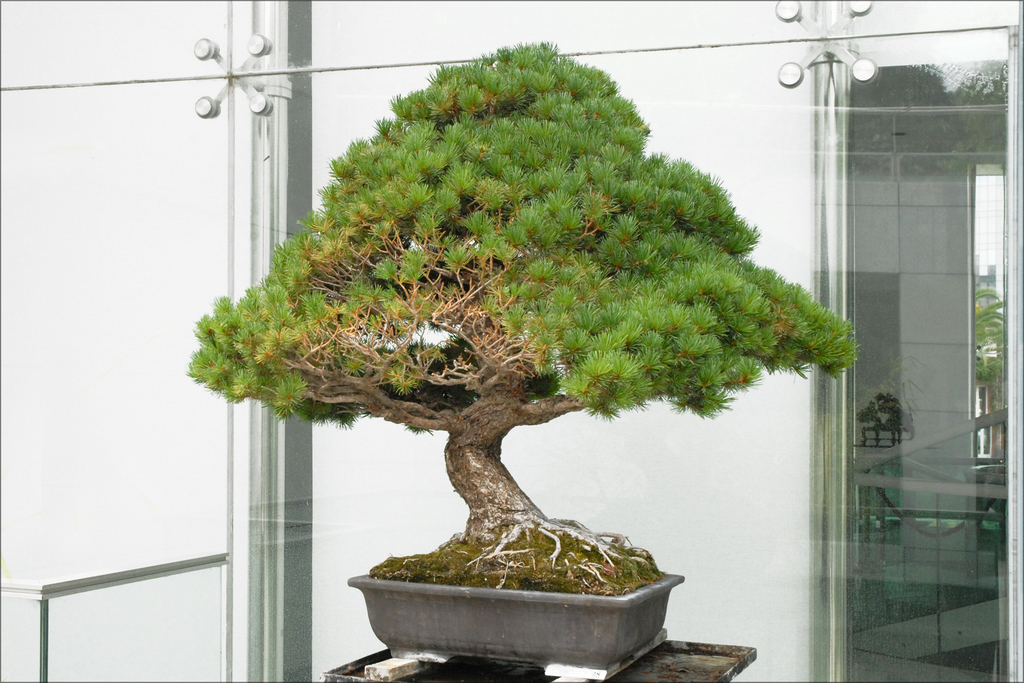Tree: (178, 38, 863, 603)
